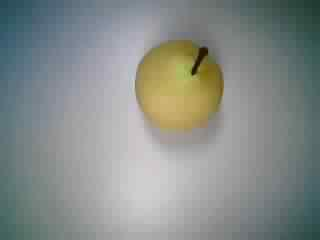pear: (127, 31, 232, 141)
